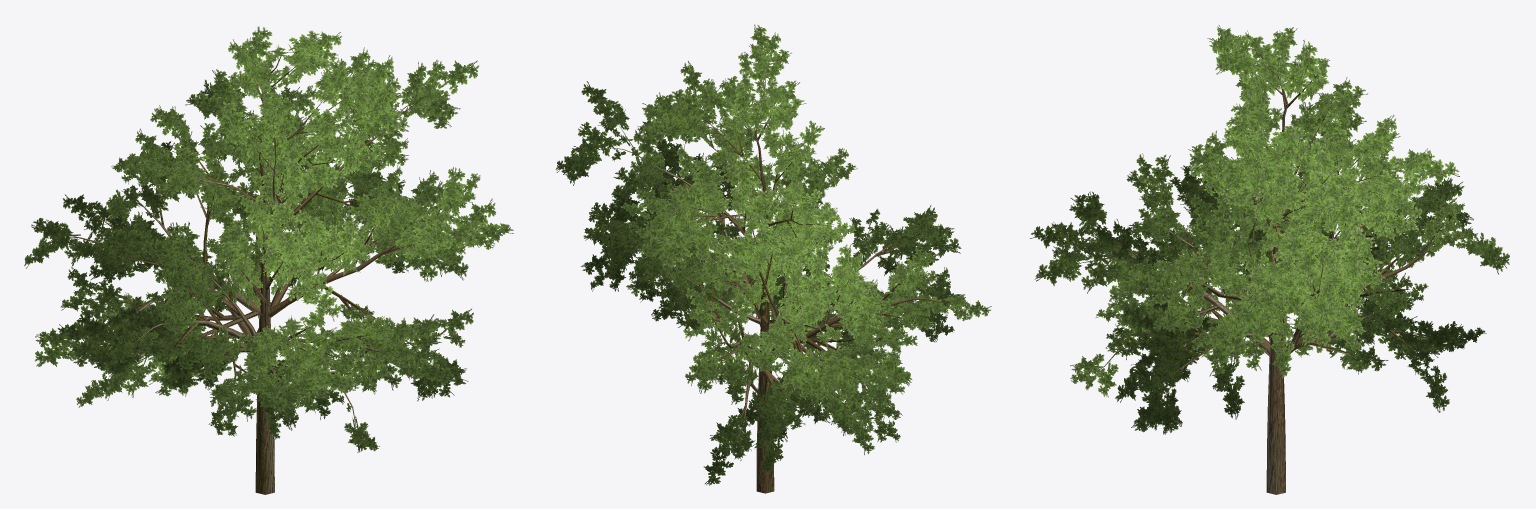
Rendered from eztree-oak.glb.
The picture shows the model from 3 angles, left to right: view 1: azimuth 30°, elevation 25°; view 2: azimuth 150°, elevation 25°; view 3: azimuth 270°, elevation 25°; orthographic projection. The views are drawn at different scales.
Parts seen in each view (by area): view 1: LOD0; view 2: LOD0; view 3: LOD0.
Part boxes in pixels (x1,y1,x2,y2): LOD0: (24, 26, 513, 494); LOD0: (555, 24, 991, 493); LOD0: (1030, 25, 1509, 494).
Size of what is drawn, in the model's own units: 11.81 by 13 by 12.04.
Materials: 2 (2 with a texture image).
